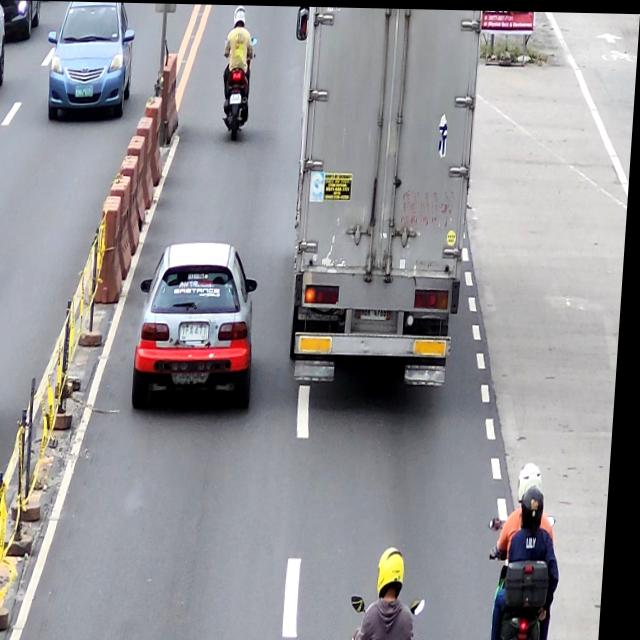Car: (136, 239, 265, 412)
License-Plate: (183, 322, 214, 339), (364, 305, 391, 320), (230, 91, 244, 104)
Motorcycle: (219, 36, 258, 141)
Truck: (278, 5, 482, 392)
